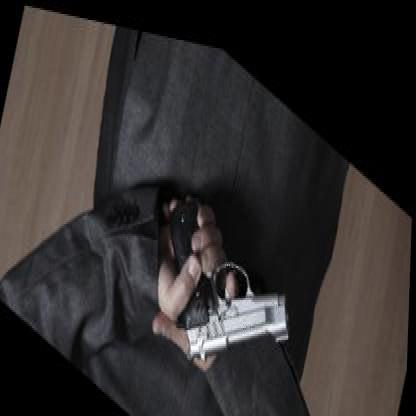pistol: (145, 164, 302, 414)
